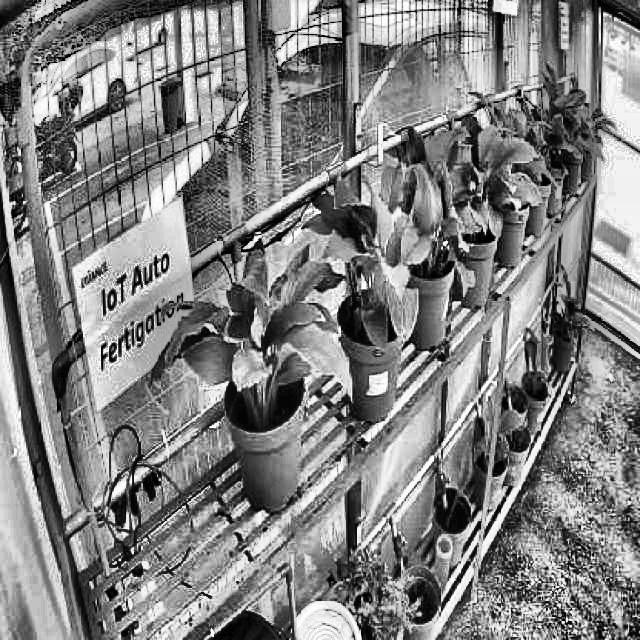plants: (148, 239, 354, 418), (311, 193, 418, 353), (418, 118, 542, 235), (377, 152, 475, 300)
